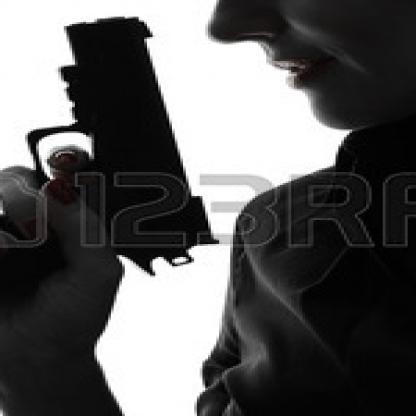gun: (0, 3, 228, 291)
